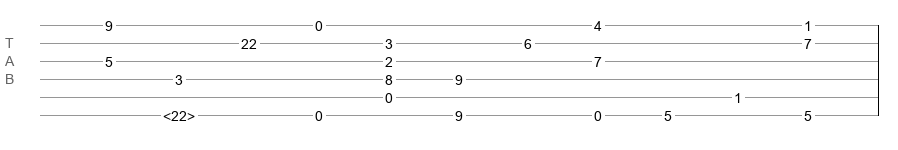0: (315, 108, 323, 118), (315, 18, 323, 28), (385, 90, 393, 100), (594, 108, 602, 118)
1: (734, 90, 742, 100), (804, 18, 812, 28)
2: (385, 54, 393, 64)
22: (241, 36, 257, 46)
3: (175, 72, 183, 82), (385, 36, 393, 46)
4: (594, 18, 602, 28)
5: (105, 54, 113, 64), (664, 108, 672, 118), (804, 108, 812, 118)
6: (524, 36, 532, 46)
7: (594, 54, 602, 64), (804, 36, 812, 46)
8: (385, 72, 393, 82)
9: (105, 18, 113, 28), (455, 108, 463, 118), (455, 72, 463, 82)
harmonic: (163, 108, 195, 118)
